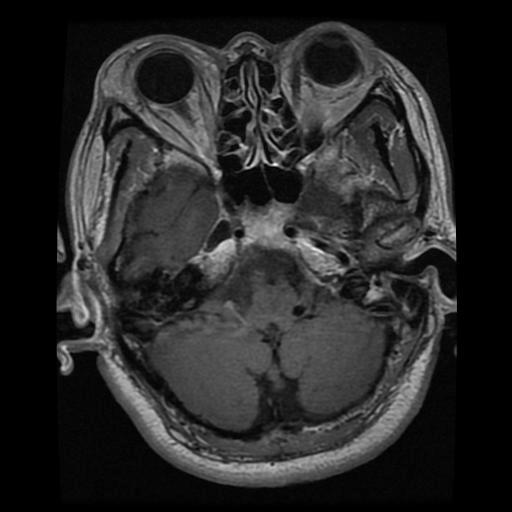Tumour-Pituitary: (229, 196, 305, 255)
